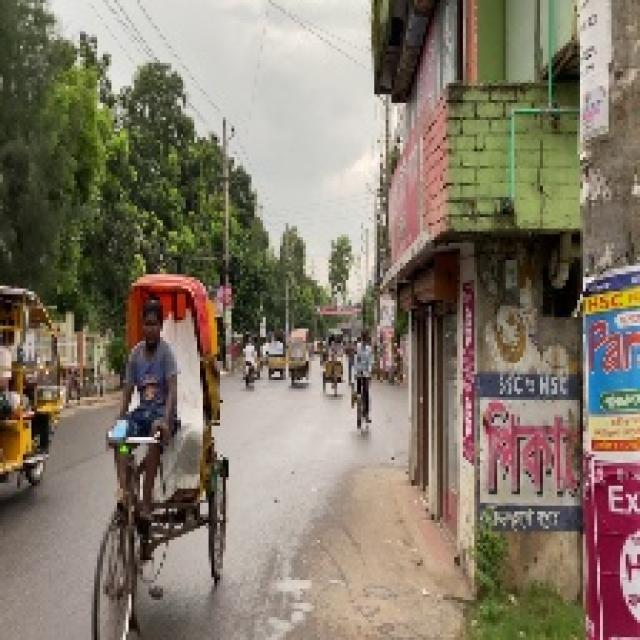rickshaw: (84, 275, 223, 629), (3, 270, 68, 500), (322, 327, 349, 399), (283, 328, 314, 386), (265, 326, 287, 378)
